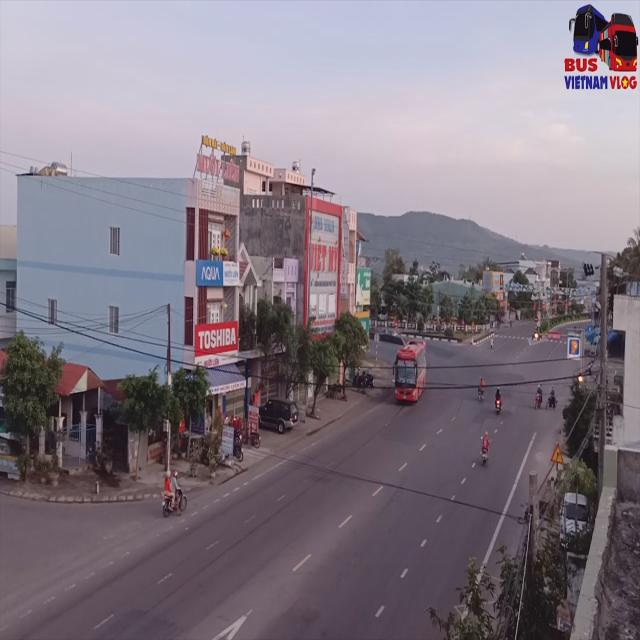bus: (393, 339, 427, 405)
motorbike: (162, 472, 187, 521), (479, 430, 492, 469), (494, 386, 504, 416)
